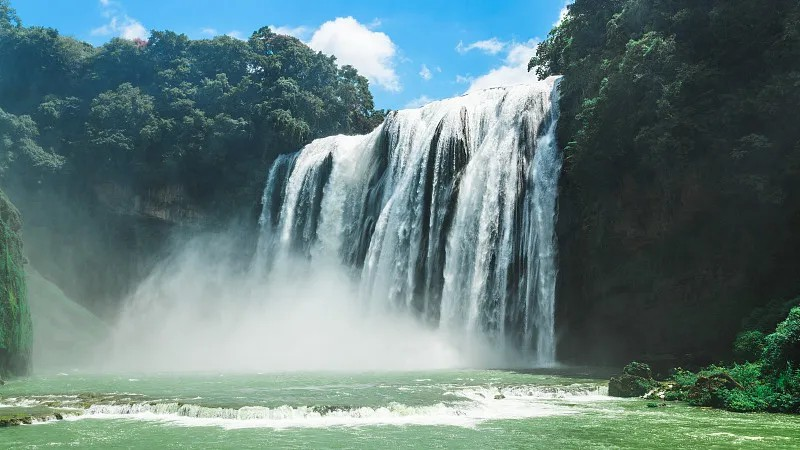Huangguoshu: (249, 75, 556, 368)
